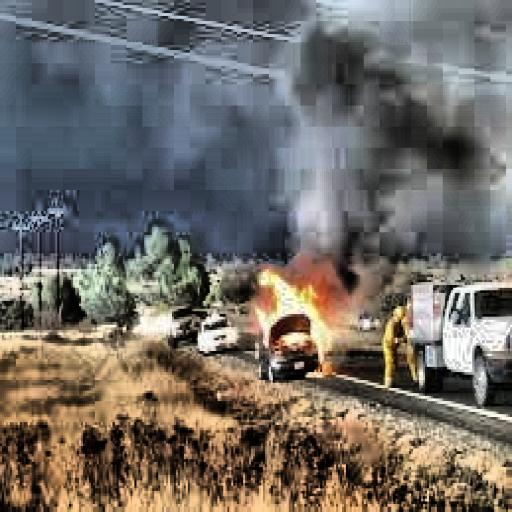fire: (243, 266, 346, 386)
